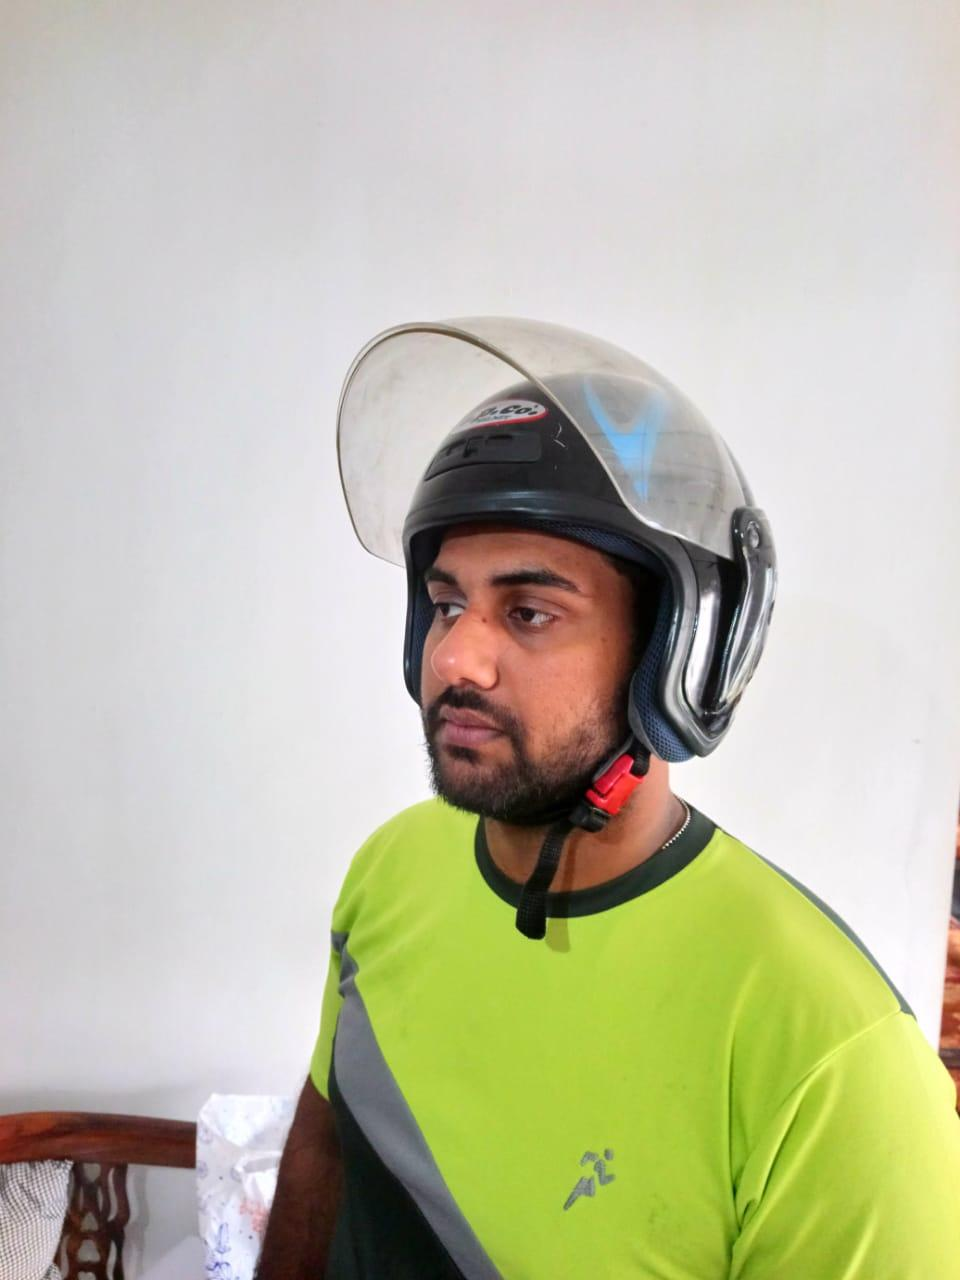helmet: (333, 310, 776, 764)
